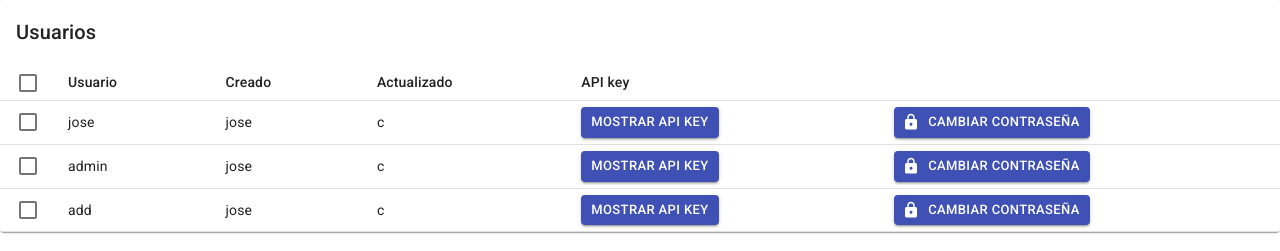
Test case: checkbox check › check the checkbox in the header select all checkboxes in the body
Click the checkbox named "seleccionar todos los usuarios" at {"x": 28, "y": 83}, box [16,71,40,95]
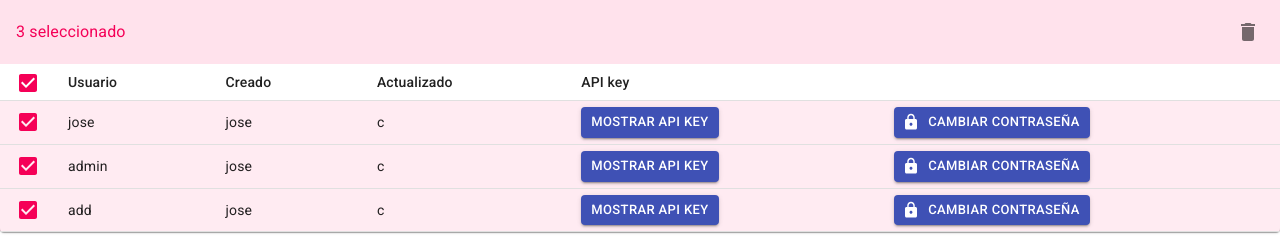
Now the checkbox named "table row checkbox" is checked, box [16,110,40,134]
